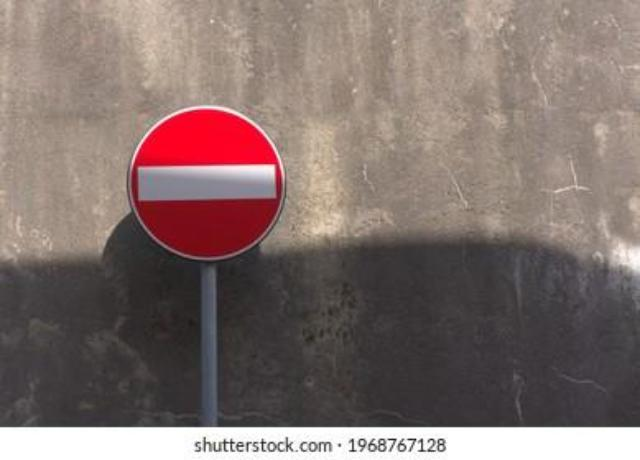B2: (124, 102, 286, 264)
